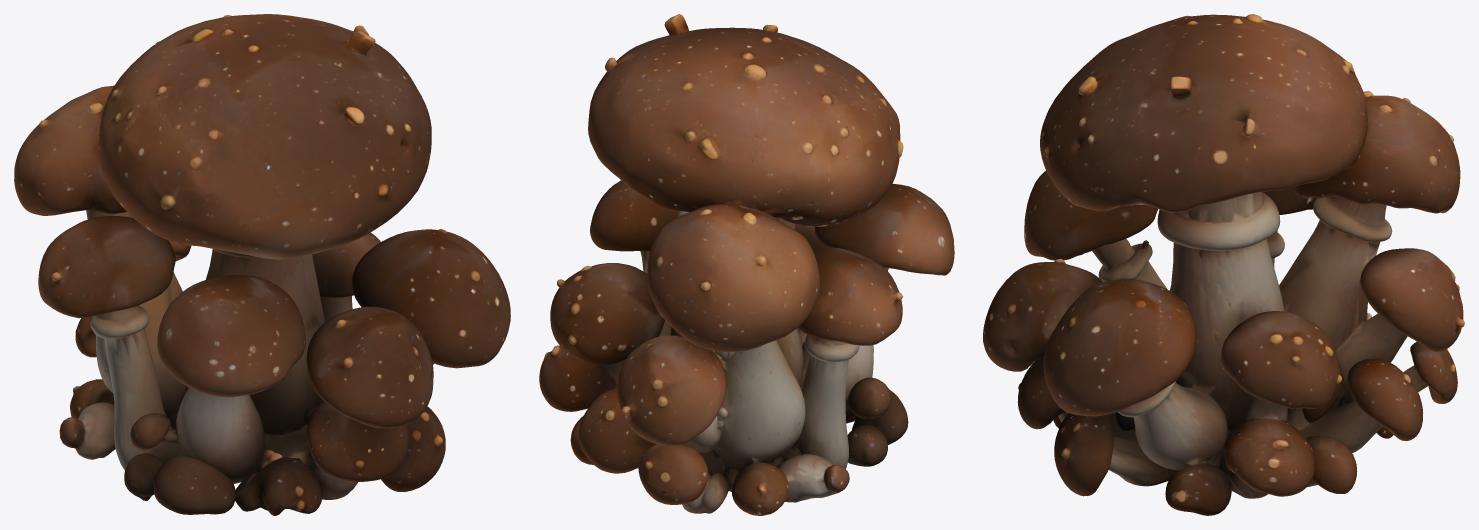
File: nature-mushroom-brown.glb
The picture shows the model from 3 angles, left to right: view 1: azimuth 30°, elevation 25°; view 2: azimuth 150°, elevation 25°; view 3: azimuth 270°, elevation 25°; orthographic projection. The views are drawn at different scales.
Visible parts, largest first — view 1: tripo_node_90829a0d-151c-4d19-991b-3d07f3fdc2ce; view 2: tripo_node_90829a0d-151c-4d19-991b-3d07f3fdc2ce; view 3: tripo_node_90829a0d-151c-4d19-991b-3d07f3fdc2ce.
Boxes of the visible parts, left/top/right/bottom form: tripo_node_90829a0d-151c-4d19-991b-3d07f3fdc2ce: left=14, top=14, right=510, bottom=515; tripo_node_90829a0d-151c-4d19-991b-3d07f3fdc2ce: left=539, top=14, right=954, bottom=515; tripo_node_90829a0d-151c-4d19-991b-3d07f3fdc2ce: left=983, top=14, right=1464, bottom=515.
Bounding box in the file's own units: 0.1837 × 0.2 × 0.2023.
Materials: 1 (1 with a texture image).
